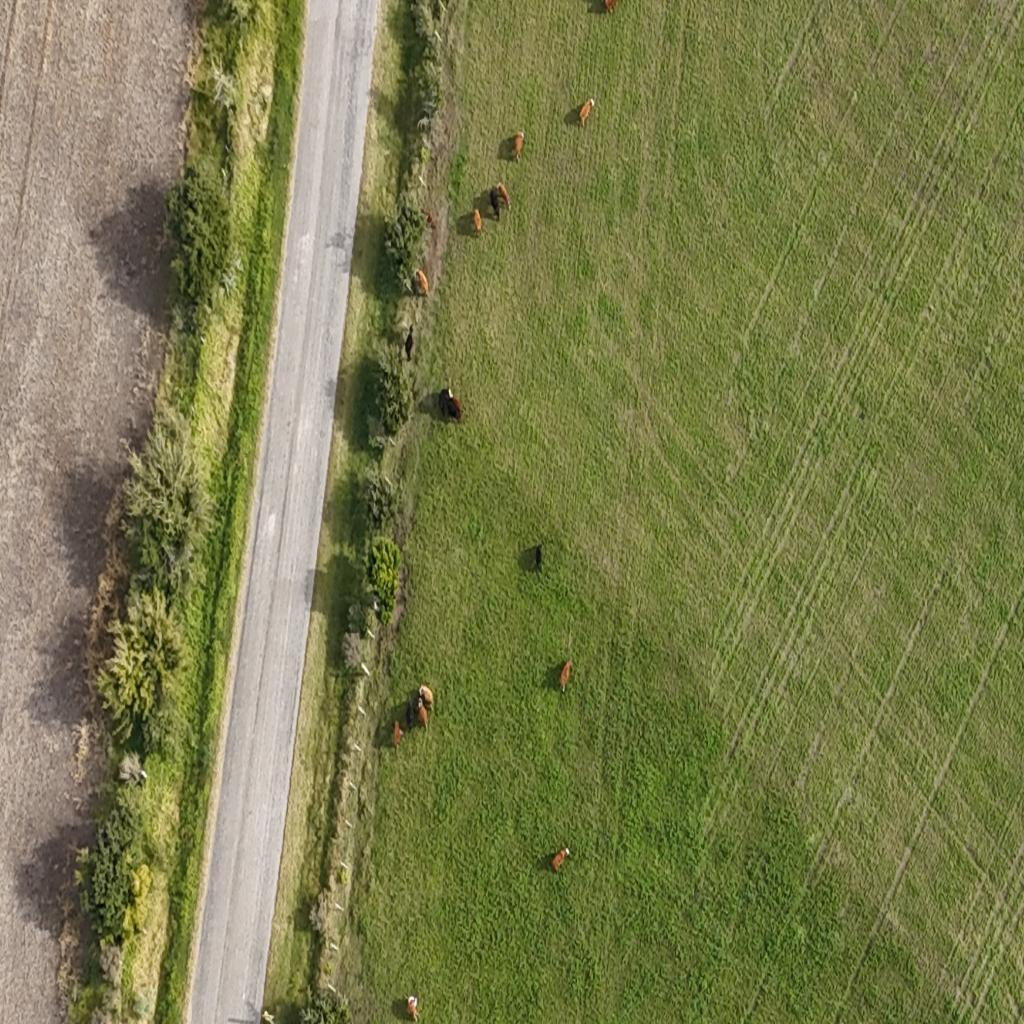cow: (567, 94, 598, 133), (431, 383, 451, 429), (398, 992, 423, 1024), (492, 184, 512, 220), (548, 842, 570, 874), (448, 385, 464, 425), (508, 128, 524, 162), (401, 322, 415, 360), (558, 659, 572, 696), (416, 697, 430, 731), (419, 676, 433, 710), (415, 268, 429, 296), (393, 719, 403, 749), (473, 208, 483, 236), (425, 212, 437, 232), (534, 544, 542, 572), (604, 1, 617, 15)
